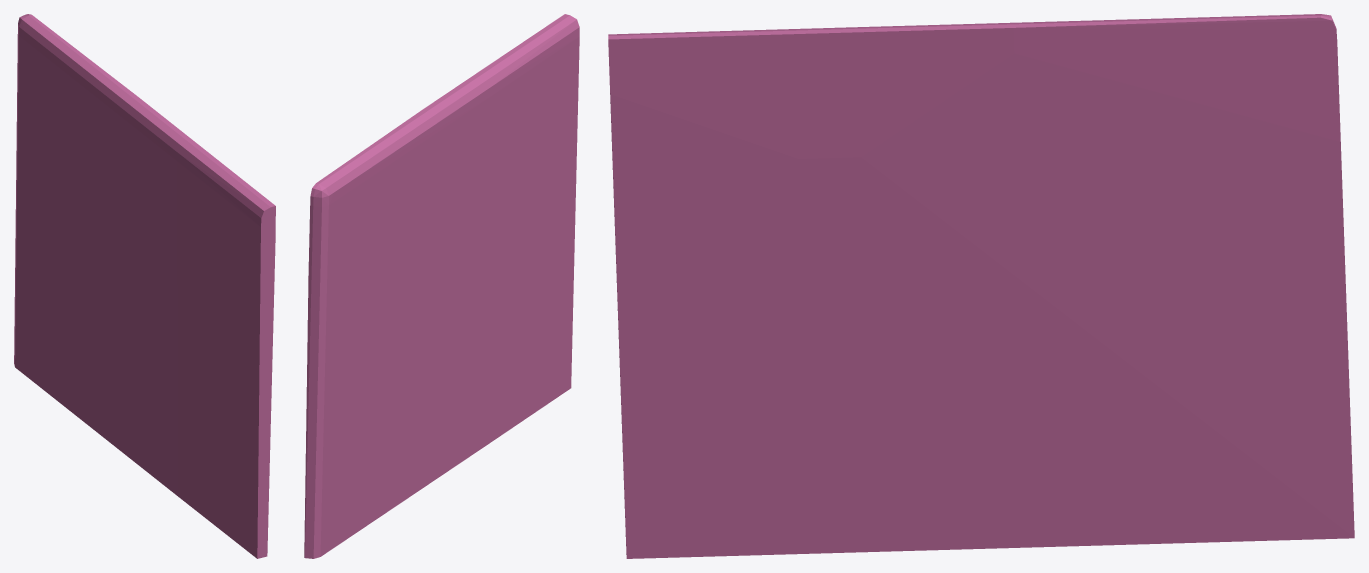
Rendered from converted_Downdraft_Assy_collision_23_cc72a9ff.obj.
The picture shows the model from 3 angles, left to right: view 1: azimuth 30°, elevation 25°; view 2: azimuth 150°, elevation 25°; view 3: azimuth 270°, elevation 25°; orthographic projection. The views are drawn at different scales.
Bounding box in the file's own units: 0.0273 × 0.619 × 0.7728.
